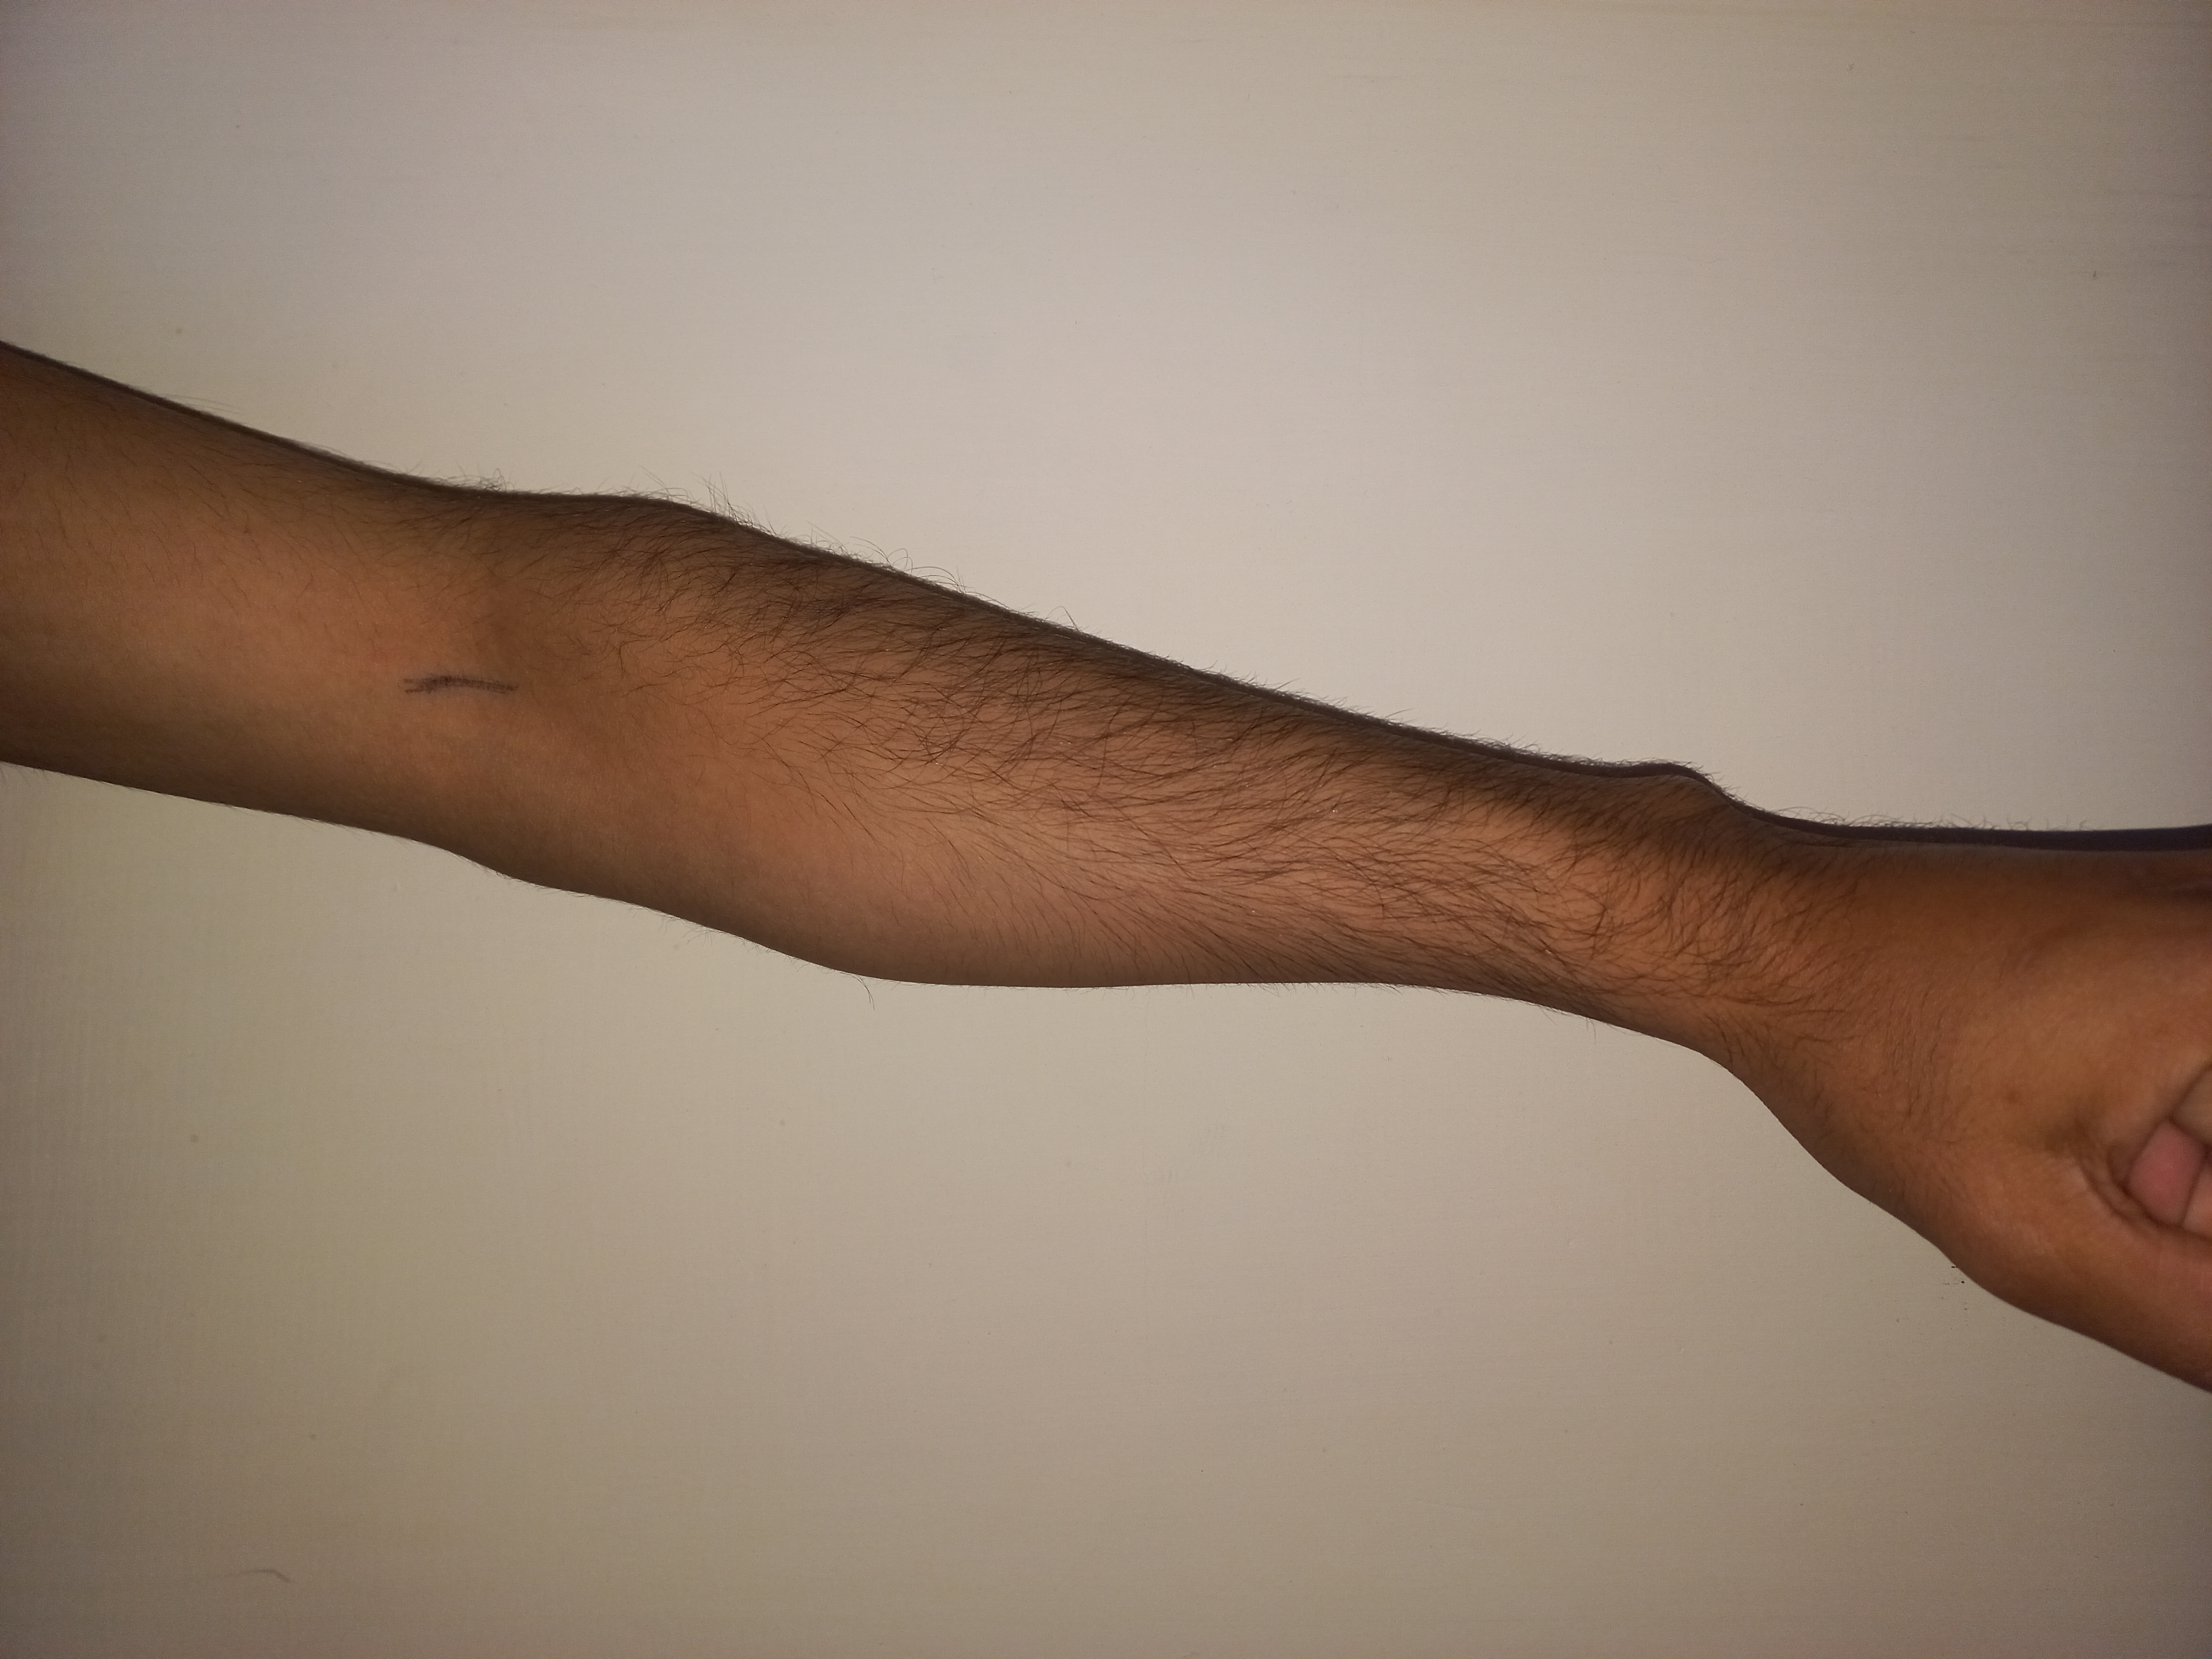vein: (395, 653, 531, 708)
